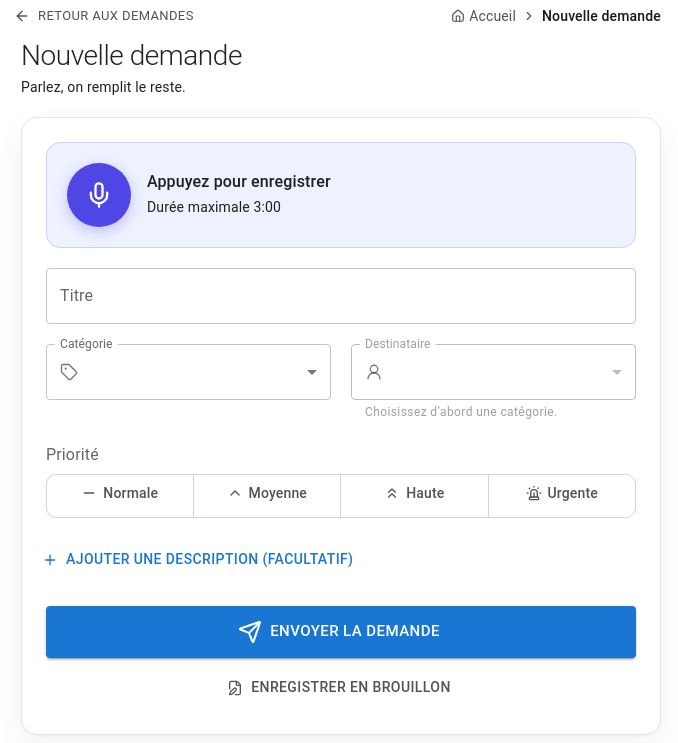
Test: CreateRequestPage › signale chaque champ manquant sans envoyer
The image size is (678, 743).
Check: the heading "Nouvelle demande" is shown, box [21, 39, 242, 72]
Click the button "Envoyer la demande" at (341, 632), box [46, 606, 636, 658]
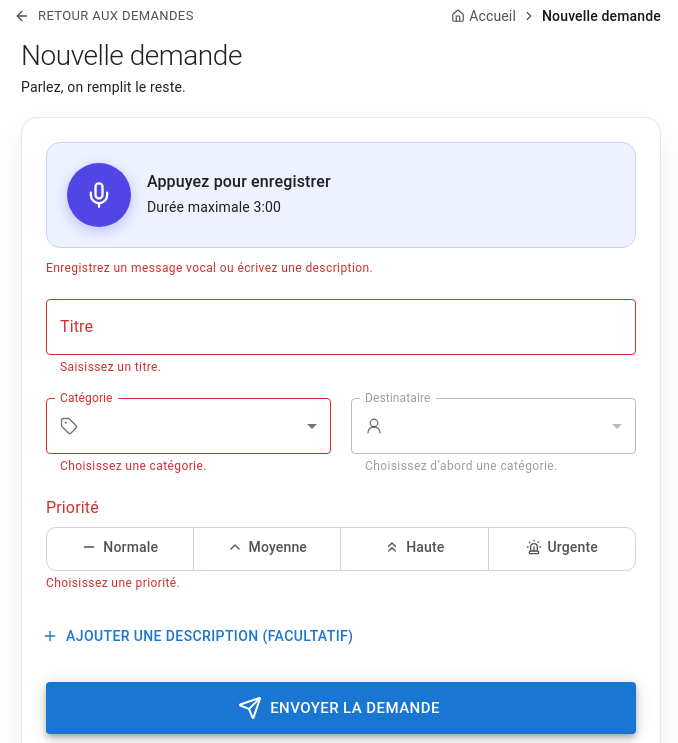
Check: the text "Choisissez une catégorie." is shown, box [60, 458, 207, 472]
Check: the text "Choisissez une priorité." is shown, box [46, 576, 180, 590]
Check: the text "Saisissez un titre." is shown, box [60, 360, 161, 374]
Click the 1st dropdown named "Catégorie" at (208, 426), box [86, 398, 331, 454]
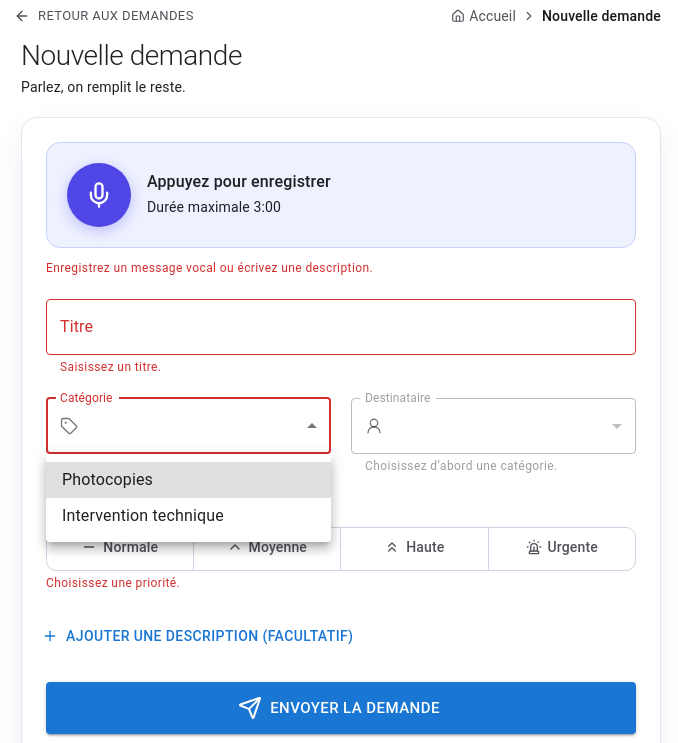
Click the option "Photocopies" at (108, 480), box [46, 462, 331, 498]
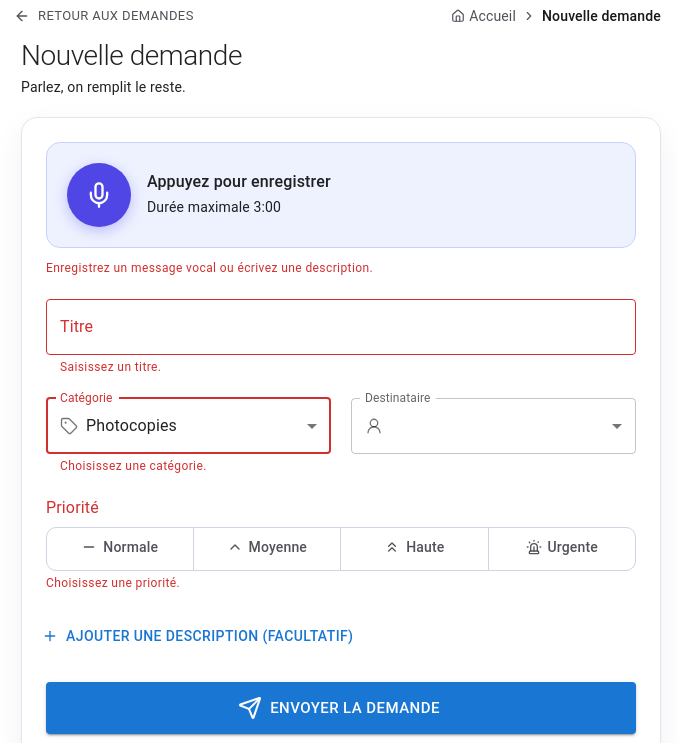
Click the button "Envoyer la demande" at (341, 708), box [46, 682, 636, 734]
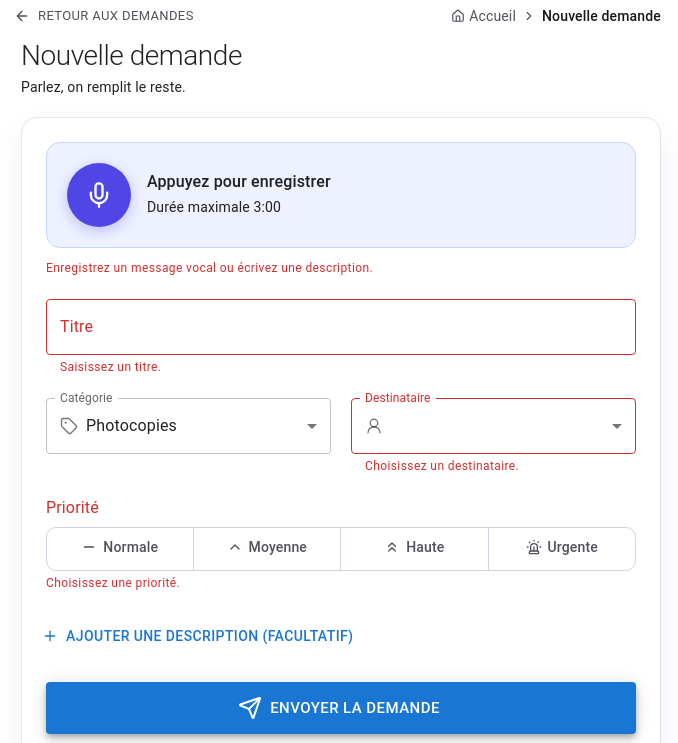
Check: the text "Choisissez un destinataire." is shown, box [365, 458, 519, 472]
